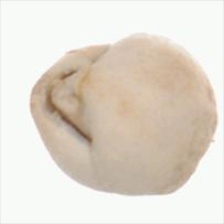L3: (48, 58, 94, 142)
L4: (30, 33, 217, 197)
